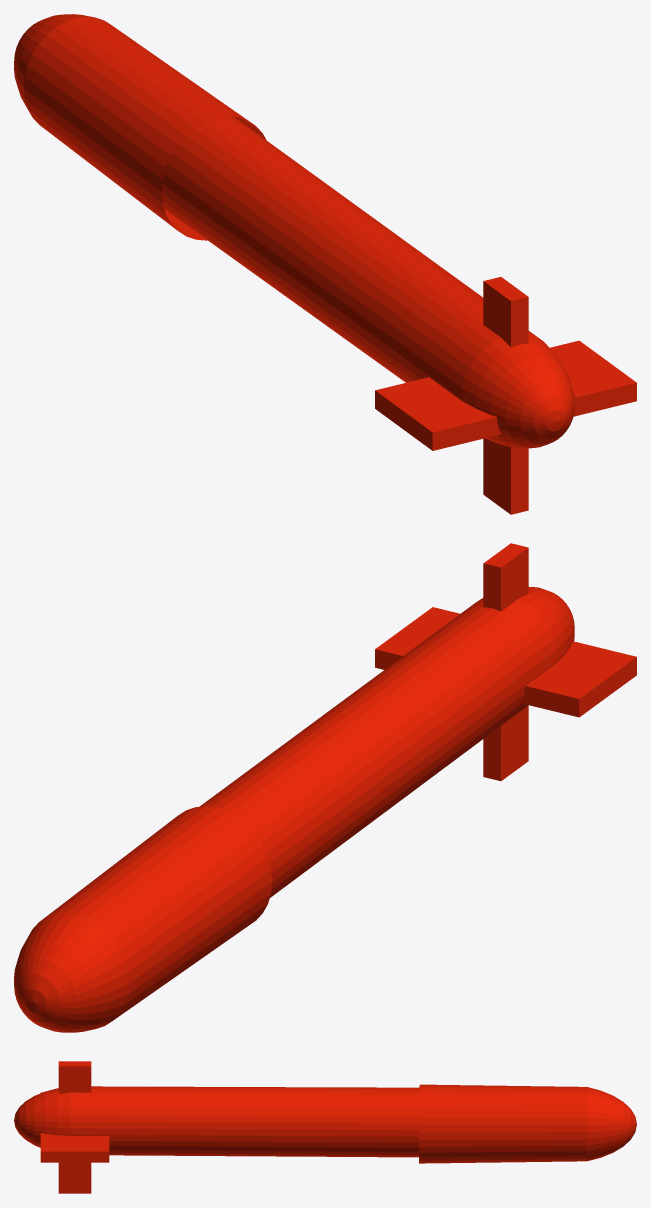
The model's file is RoketPlayer.glb.
The picture shows the model from 3 angles, top to bottom: view 1: azimuth 30°, elevation 25°; view 2: azimuth 150°, elevation 25°; view 3: azimuth 270°, elevation 25°; orthographic projection. The views are drawn at different scales.
Parts seen in each view (by area): view 1: Sphere; view 2: Sphere; view 3: Sphere.
Boxes of the visible parts, x1=… form: Sphere: x1=14, y1=14, x2=636, y2=514; Sphere: x1=14, y1=543, x2=636, y2=1032; Sphere: x1=14, y1=1061, x2=636, y2=1193.
Bounding box in the file's own units: 2 × 2 × 8.88.
